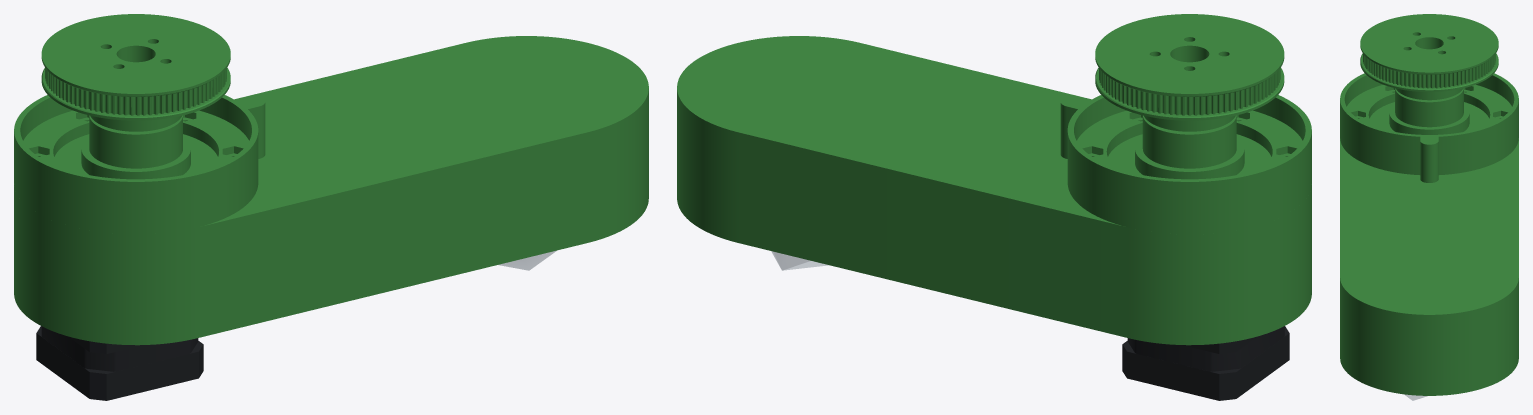
Rendered from arm2_link.glb.
3 renders of one model, left to right at view 1: azimuth 30°, elevation 25°; view 2: azimuth 150°, elevation 25°; view 3: azimuth 270°, elevation 25°, orthographic. The views are drawn at different scales.
Parts seen in each view (by area): view 1: arm2_link_printed, arm2_link_motor; view 2: arm2_link_printed, arm2_link_motor; view 3: arm2_link_printed.
Part boxes in pixels (x1,y1,x2,y2): arm2_link_printed: [14, 14, 648, 345]; arm2_link_motor: [36, 326, 203, 400]; arm2_link_printed: [677, 14, 1311, 345]; arm2_link_motor: [1122, 326, 1289, 400]; arm2_link_printed: [1340, 14, 1518, 395].
Bounding box in the file's own units: 0.222 × 0.1084 × 0.078.
